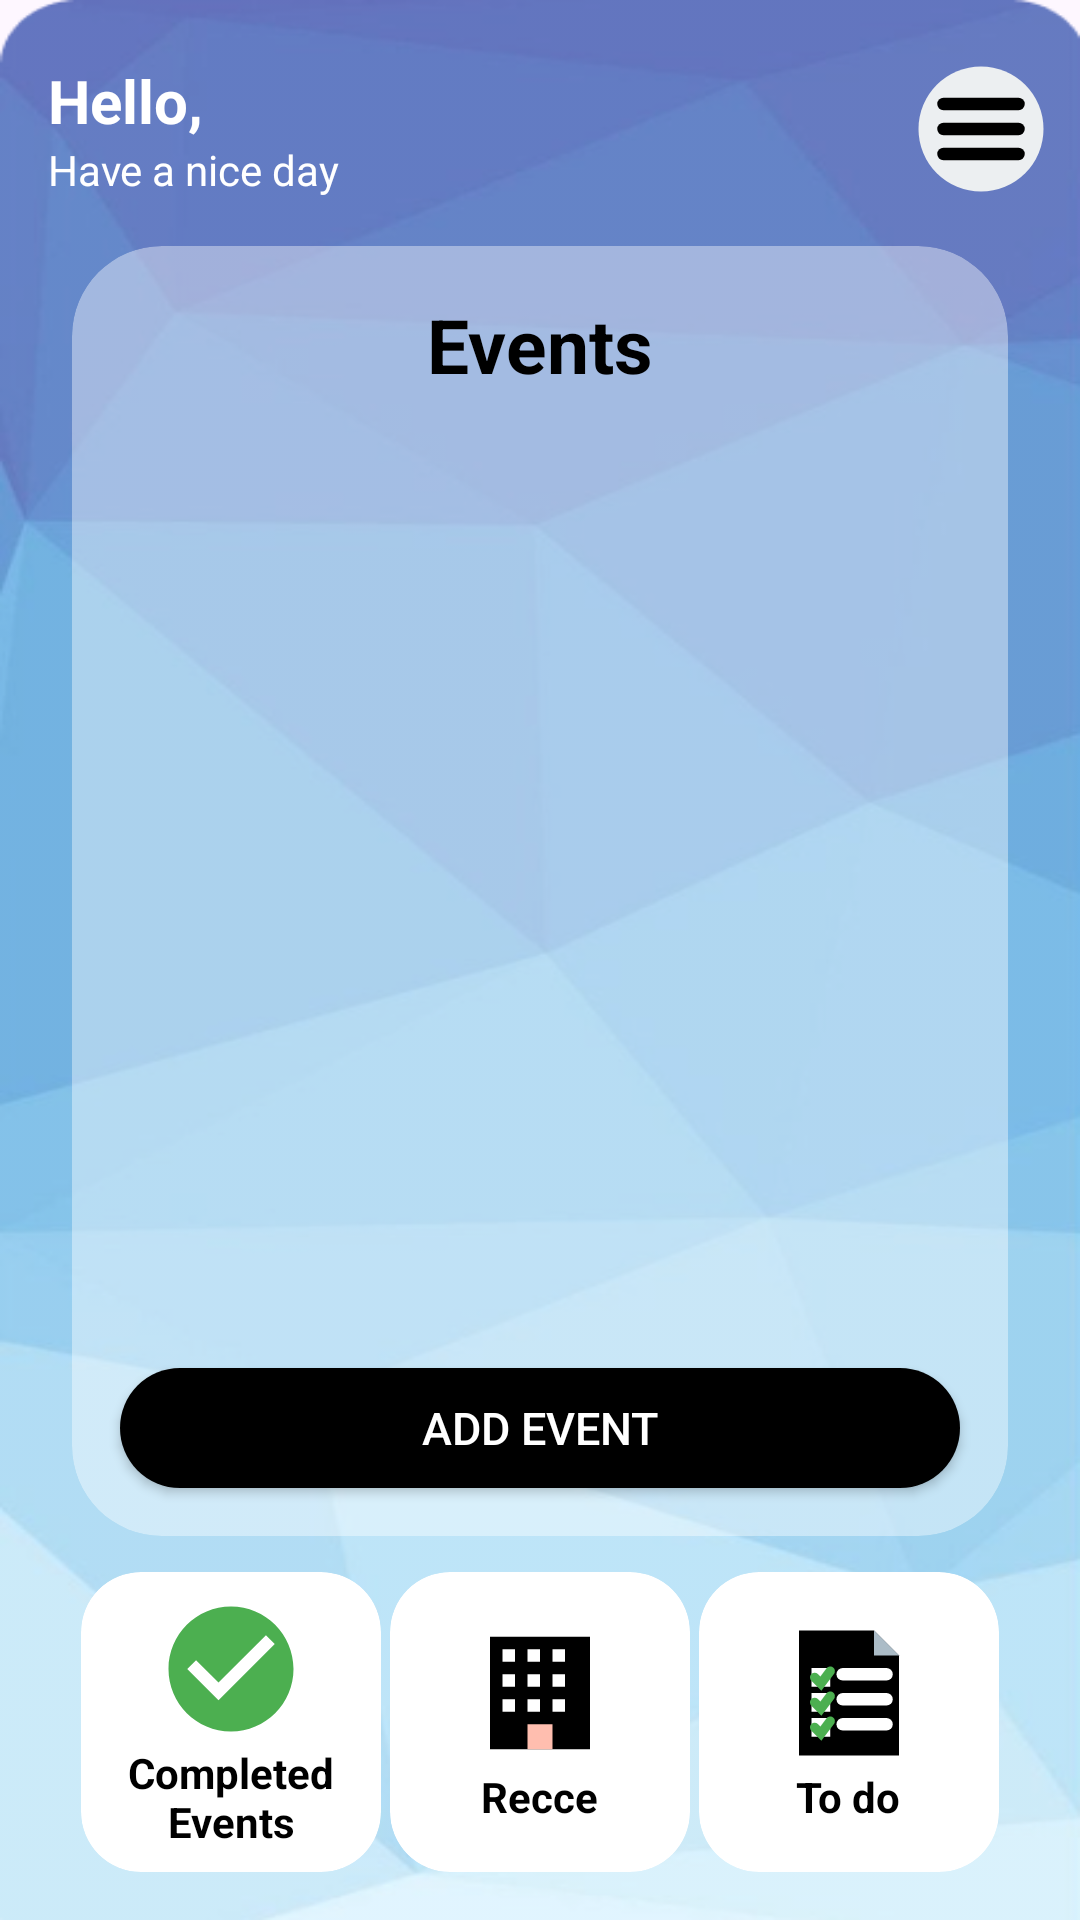

Point at icon controls on the screen. Image size 1080w x 1920h, points as point (x, y).
hamburger: point (981, 129)
venue: point (540, 1693)
